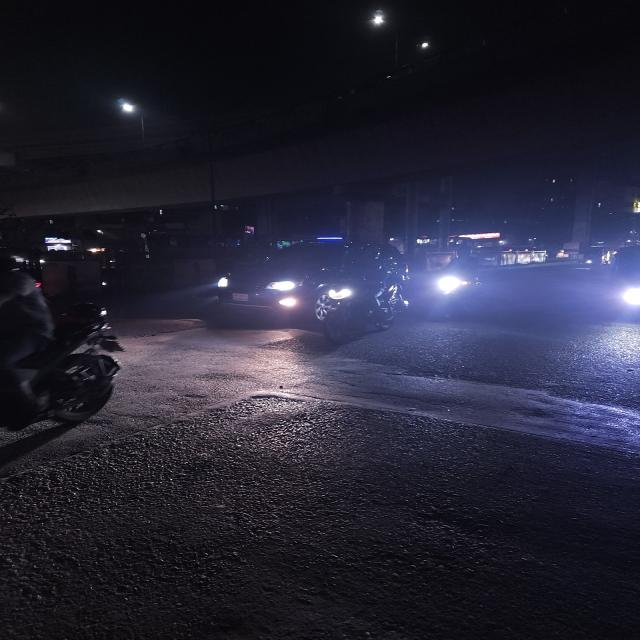car: (208, 241, 414, 342)
motorcycle: (324, 264, 412, 332), (428, 246, 487, 324)
